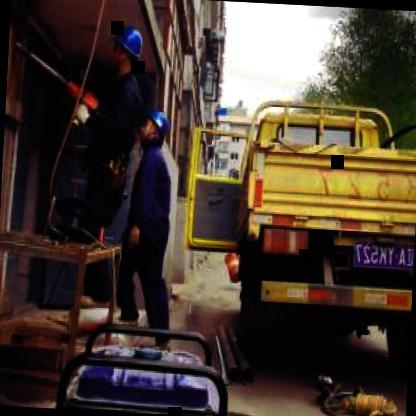helmet: (112, 25, 146, 72), (138, 107, 171, 150)
